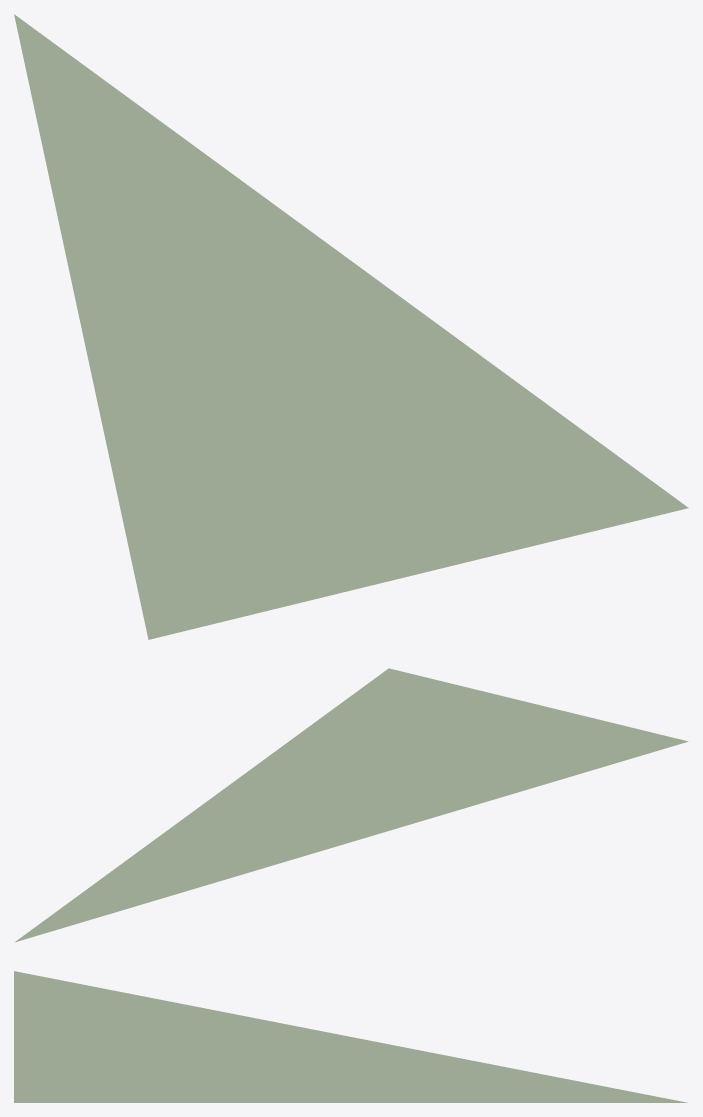
Rendered from SM_MPRR_Terrain_-6_-1.fbx.
The picture shows the model from 3 angles, top to bottom: view 1: azimuth 30°, elevation 25°; view 2: azimuth 150°, elevation 25°; view 3: azimuth 270°, elevation 25°; orthographic projection. The views are drawn at different scales.
Parts seen in each view (by area): view 1: SM_MPRR_Terrain_-6_-1; view 2: SM_MPRR_Terrain_-6_-1; view 3: SM_MPRR_Terrain_-6_-1.
Part boxes in pixels (x1,y1,x2,y2): SM_MPRR_Terrain_-6_-1: [14, 14, 688, 639]; SM_MPRR_Terrain_-6_-1: [14, 668, 688, 942]; SM_MPRR_Terrain_-6_-1: [14, 971, 687, 1102].
Bounding box in the file's own units: 2295 × 4964 × 0.
